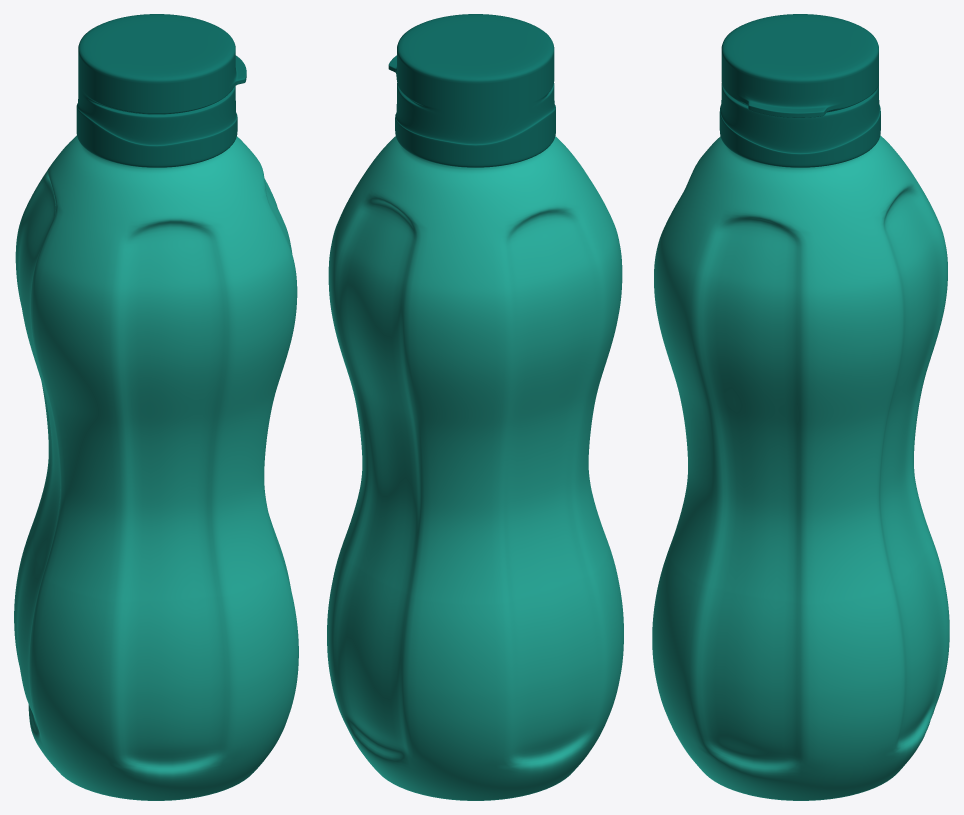
File: Bottle.fbx
The picture shows the model from 3 angles, left to right: view 1: azimuth 30°, elevation 25°; view 2: azimuth 150°, elevation 25°; view 3: azimuth 270°, elevation 25°; orthographic projection.
Parts seen in each view (by area): view 1: Line001, Cylinder001; view 2: Line001, Cylinder001; view 3: Line001, Cylinder001.
Part boxes in pixels (<box>): Line001: <box>14,135,298,800</box>; Cylinder001: <box>76,14,246,167</box>; Line001: <box>327,136,623,800</box>; Cylinder001: <box>388,14,555,167</box>; Line001: <box>652,135,949,800</box>; Cylinder001: <box>719,14,880,167</box>.
Bounding box in the file's own units: 29.04 × 76.86 × 29.04.
